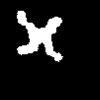single_crochet: (17, 11, 62, 61)
